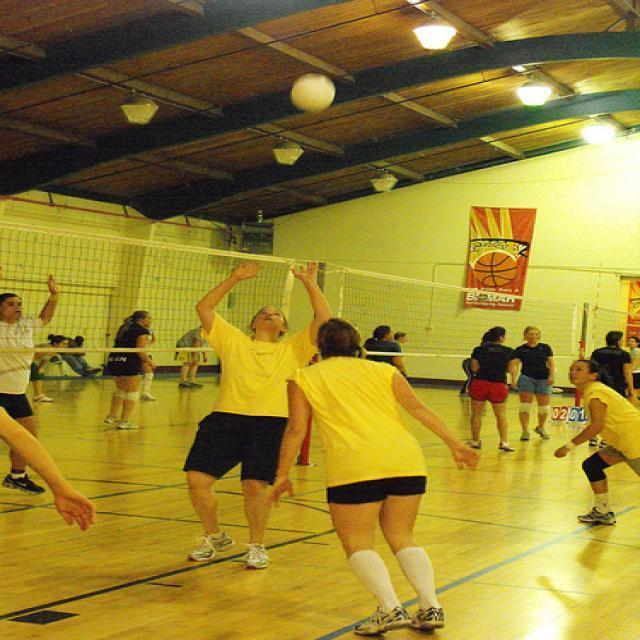volleyball: (292, 74, 334, 112)
